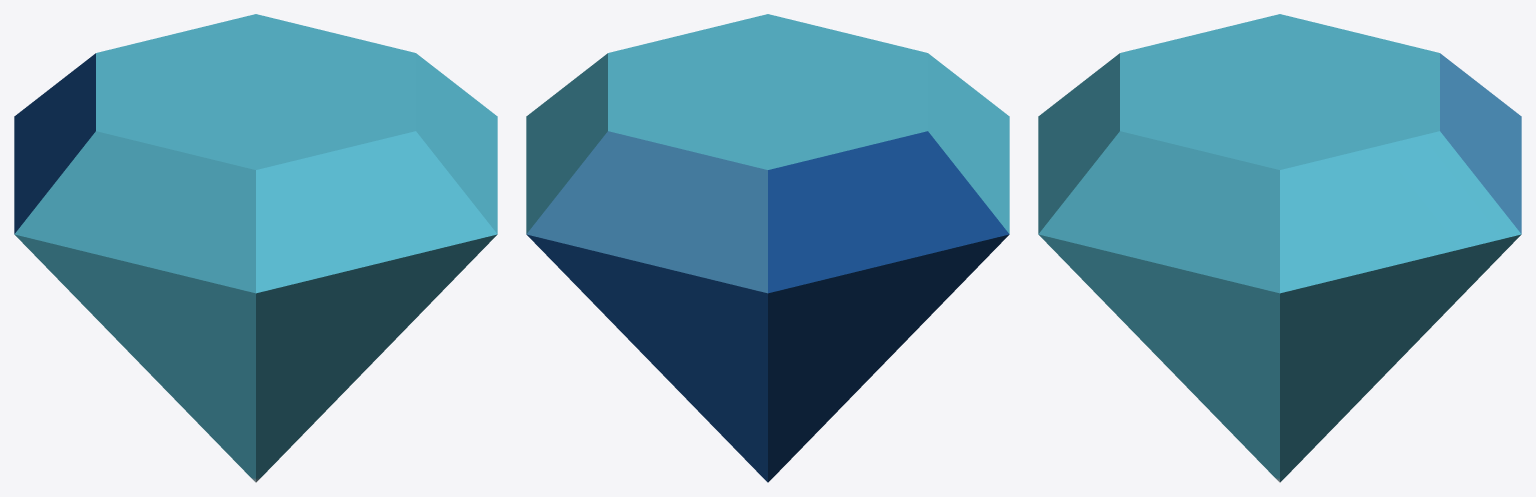
The model's file is Dimond.fbx.
3 views of the same model, side by side, from view 1: azimuth 30°, elevation 25°; view 2: azimuth 150°, elevation 25°; view 3: azimuth 270°, elevation 25° (orthographic).
Visible parts, largest first — view 1: pCylinder1; view 2: pCylinder1; view 3: pCylinder1.
Boxes of the visible parts, x1,y1,x2,y2 form: pCylinder1: [14, 14, 497, 482]; pCylinder1: [526, 14, 1009, 482]; pCylinder1: [1038, 14, 1521, 482].
Bounding box in the file's own units: 295 × 228 × 255.
